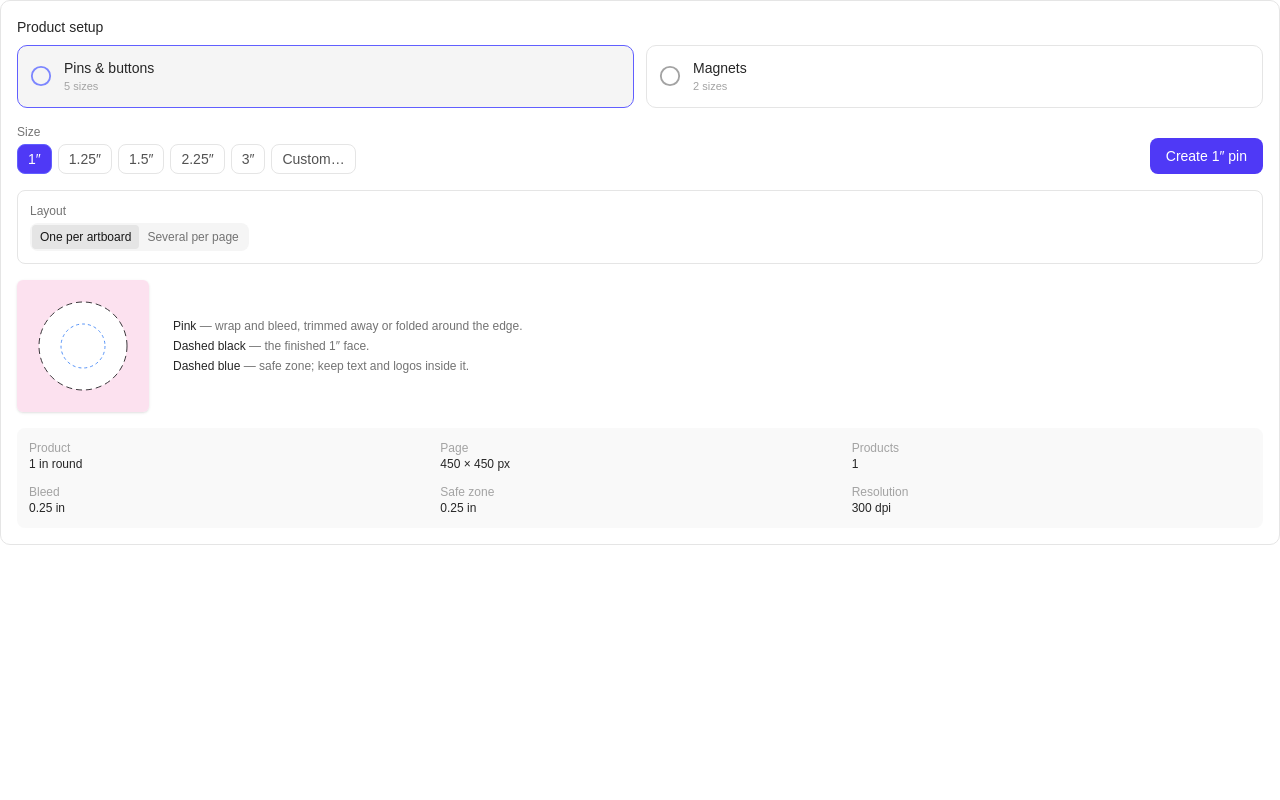
Test: ProductSetupPanel — round or square presets (PROD-001) › does not offer it for pins, which only come round
Expected: the text "Square" is not shown
Click the text "Magnets": click(720, 68) [693, 58, 747, 78]
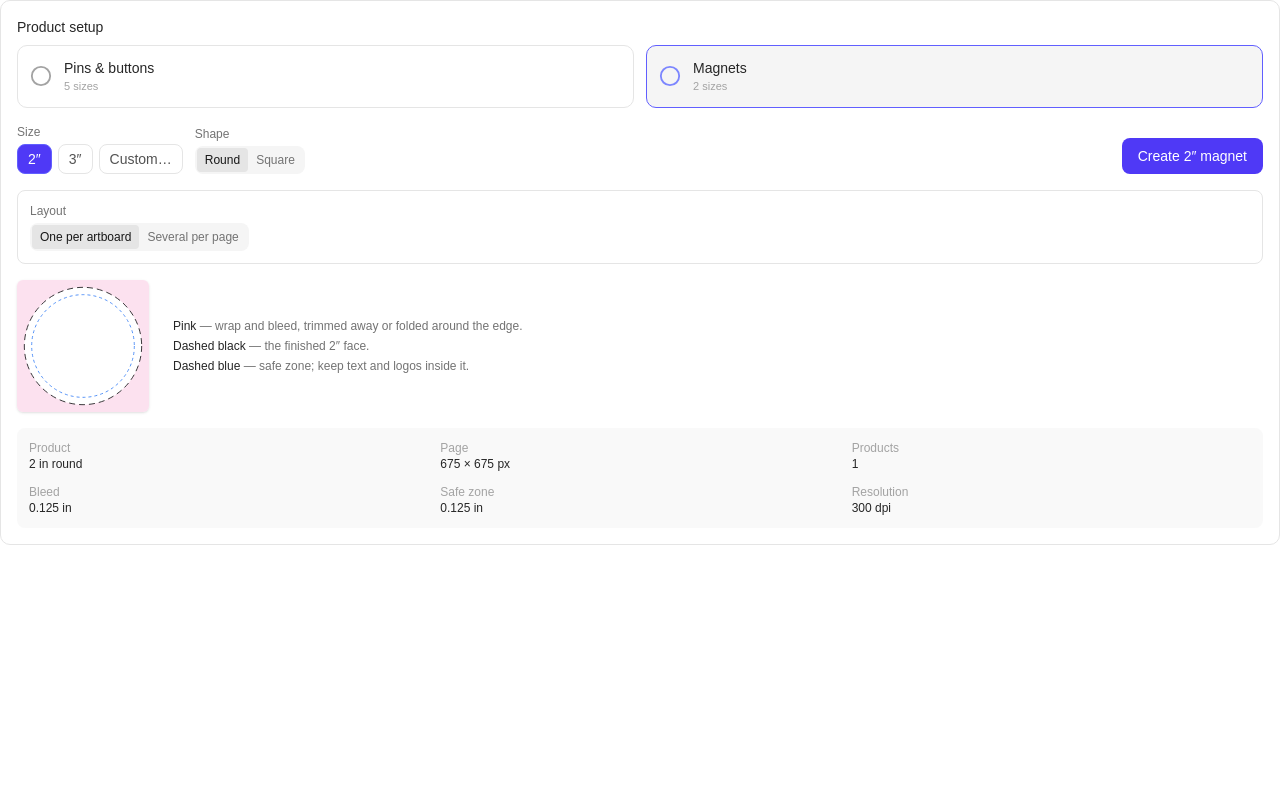
Result: the button "Square" is shown at [248, 148, 303, 172]
